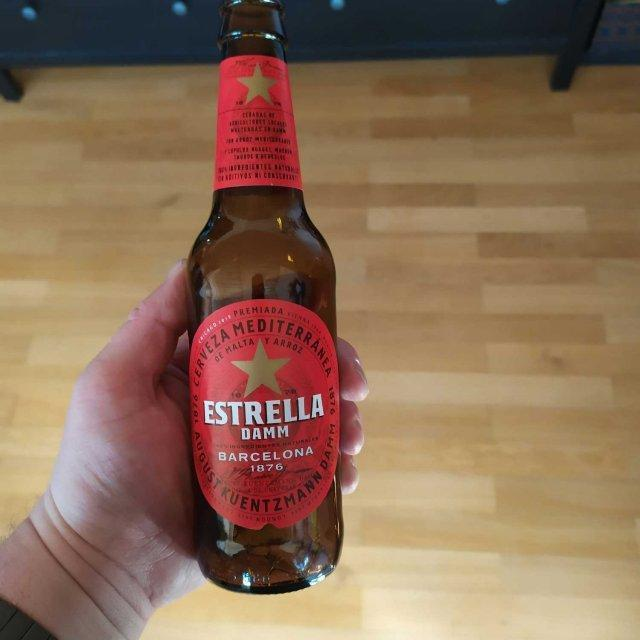Glass: (184, 0, 346, 596)
